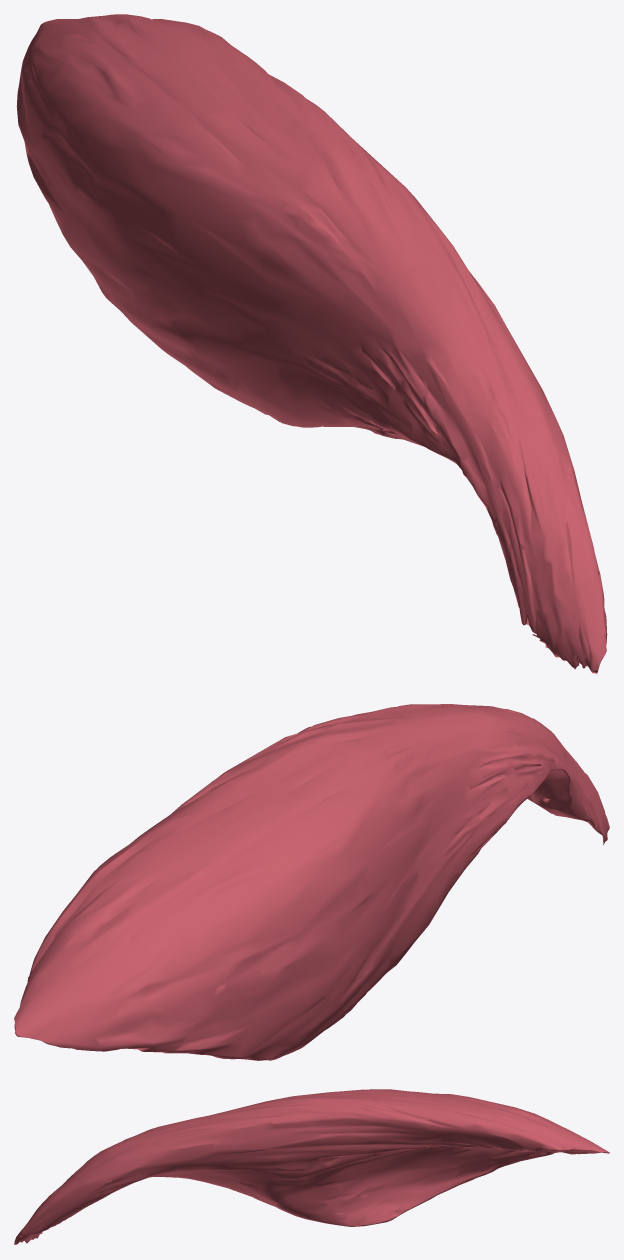
3 renders of one model, top to bottom at view 1: azimuth 30°, elevation 25°; view 2: azimuth 150°, elevation 25°; view 3: azimuth 270°, elevation 25°, orthographic. The views are drawn at different scales.
Visible parts, largest first — view 1: 左侧腓肠肌内侧头; view 2: 左侧腓肠肌内侧头; view 3: 左侧腓肠肌内侧头.
Boxes of the visible parts, x1,y1,x2,y2 form: 左侧腓肠肌内侧头: [16, 14, 607, 673]; 左侧腓肠肌内侧头: [14, 704, 609, 1060]; 左侧腓肠肌内侧头: [14, 1089, 609, 1244].
Bounding box in the file's own units: 0.0754 × 0.1267 × 0.4415.
